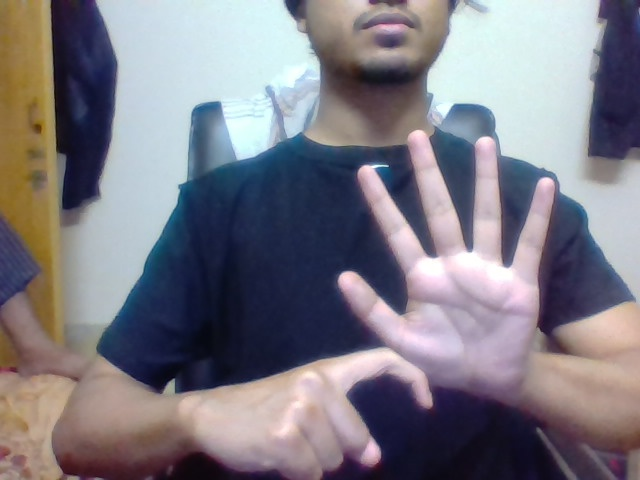R: (339, 332, 437, 472)
